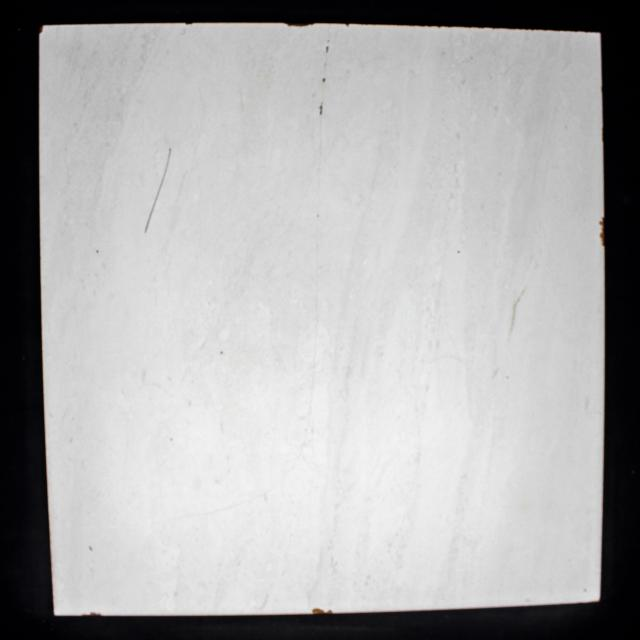edge-chipping: (598, 216, 607, 247), (283, 22, 315, 28), (82, 610, 102, 617), (311, 608, 334, 614), (38, 25, 44, 35)
hole: (325, 45, 330, 54), (319, 105, 323, 116), (322, 78, 326, 83)
line: (143, 146, 172, 235)
